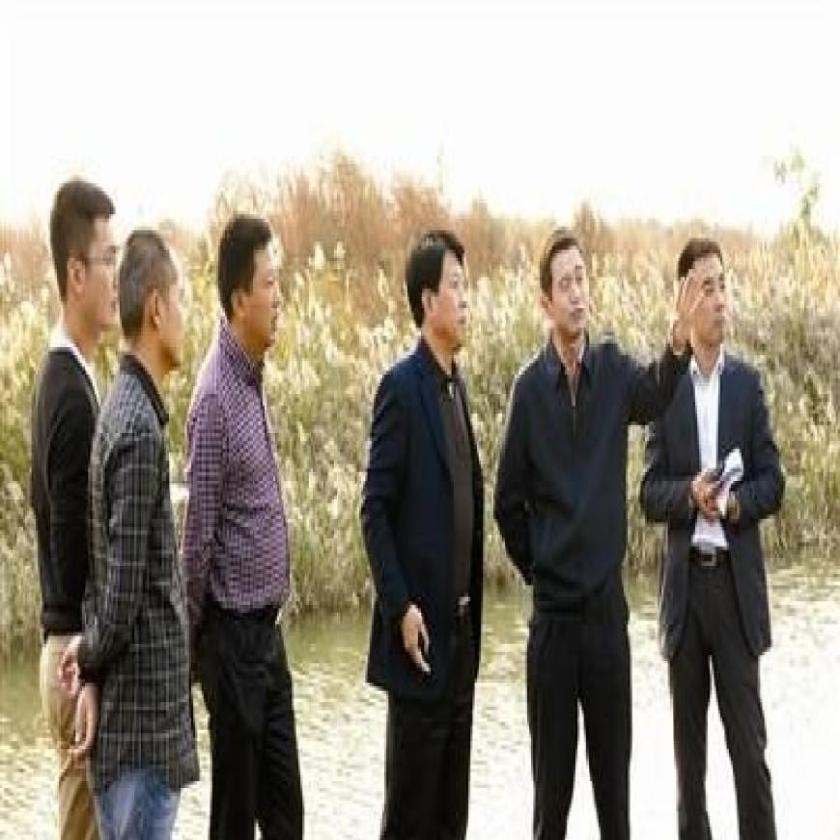Sin_casco: (47, 171, 122, 357), (121, 226, 189, 382), (215, 208, 283, 357), (407, 226, 472, 362), (676, 228, 738, 352), (532, 224, 595, 344)
